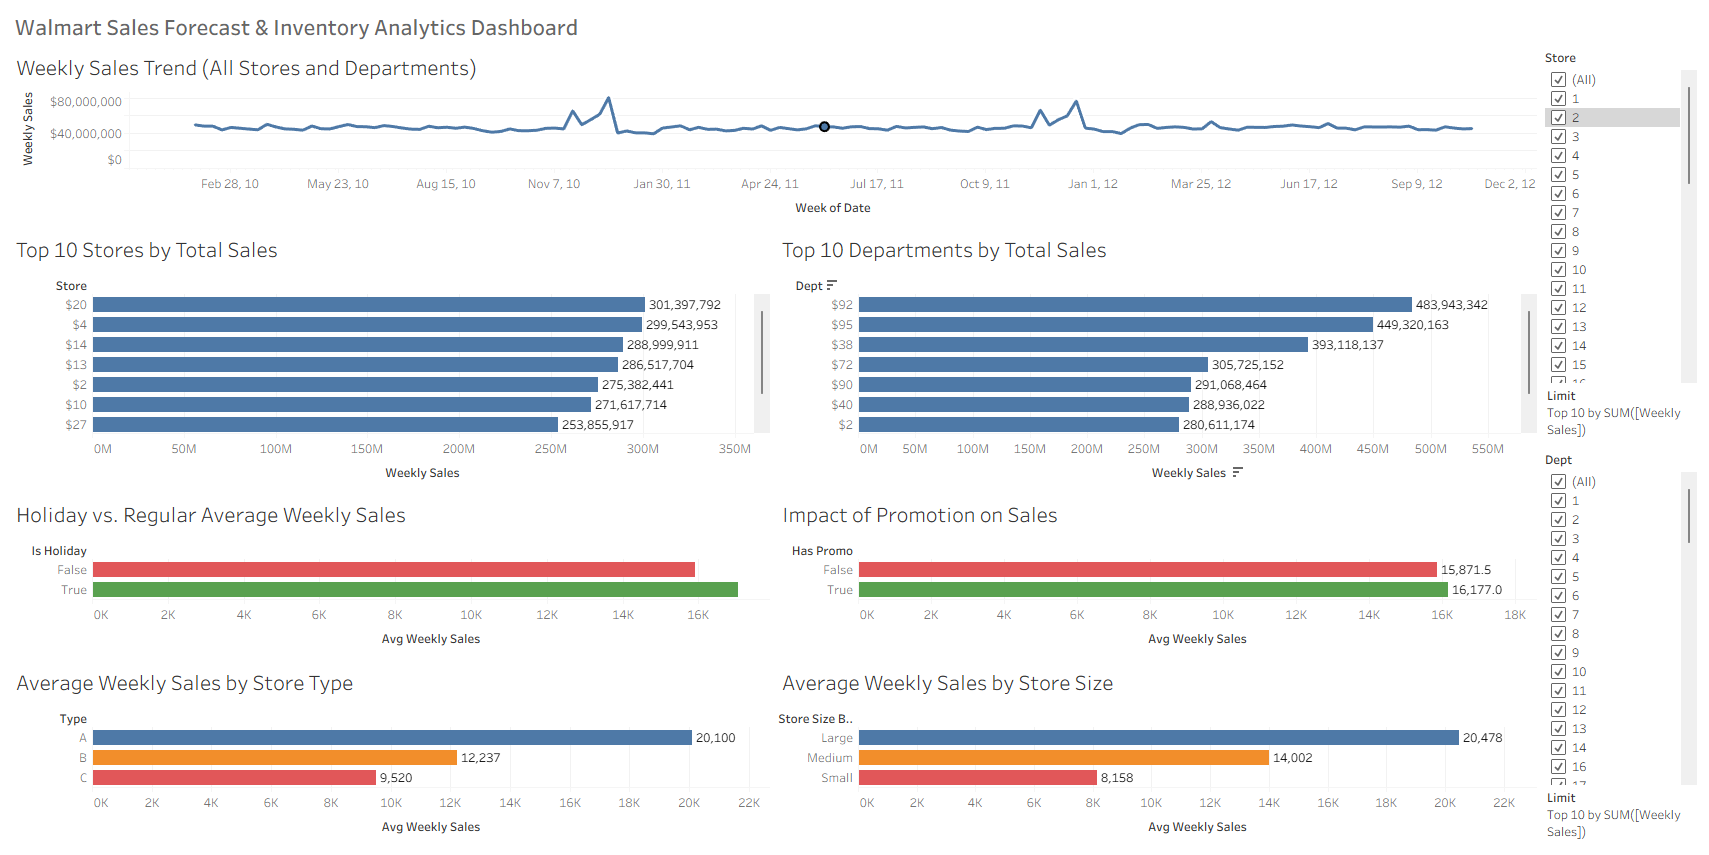

What the dashboard file says about the page in this screenshot:
{"tool":"tableau","page":{"name":"Walmart Sales Dashboard","canvas":[1000,1000],"units":"permille","ordinal":0},"visuals":[{"type":"text","box":[7.7,9.5,984.5,43.6]},{"type":"worksheet","title":"Sales Trend","mark":"Automatic","rows":["Weekly_Sales"],"cols":["Date"],"box":[7.7,53.1,829.6,212.5]},{"type":"filter","title":"Top Stores","param":"[federated.0m1fj100hibaw1137k0jd07rdmt3].[none:Store:ok]","box":[837.4,53.1,154.9,468.7]},{"type":"worksheet","title":"Top Stores","mark":"Automatic","rows":["Store"],"cols":["Weekly_Sales"],"box":[7.7,265.6,414.8,309.3]},{"type":"worksheet","title":"Top Departments","mark":"Automatic","rows":["Dept"],"cols":["Weekly_Sales"],"box":[422.5,265.6,414.8,309.3]},{"type":"filter","title":"Top Departments","param":"[federated.1u28i3s16i739c1cycz5v0e3ek7j].[none:Dept:ok]","box":[837.4,521.8,154.9,468.7]},{"type":"worksheet","title":"Holiday vs. Regular Weeks","mark":"Automatic","rows":["IsHoliday"],"cols":["Avg_Weekly_Sales"],"box":[7.7,575,414.8,196]},{"type":"worksheet","title":"Promotion Impact","mark":"Automatic","rows":["Has_Promo"],"cols":["Avg_Weekly_Sales"],"box":[422.5,575,414.8,196]},{"type":"worksheet","title":"Store Type Performance","mark":"Automatic","rows":["Type"],"cols":["Avg_Weekly_Sales"],"box":[7.7,771,414.8,219.6]},{"type":"worksheet","title":"Store Size Performance","mark":"Automatic","rows":["StoreSizeBin"],"cols":["Avg_Weekly_Sales"],"box":[422.5,771,414.8,219.6]}]}

Visuals, with their boxes on the dashboard's canvas, which has no fixed pixel size, in thousandths of its width and height (x1, y1, x2, y2). These are canvas units, not pixel positions in the 1709x855 screenshot, which may show the page scaled, cropped or inside an application window:
text: detection(8, 10, 992, 53)
"Sales Trend" worksheet: detection(8, 53, 837, 266)
"Top Stores" filter: detection(837, 53, 992, 522)
"Top Stores" worksheet: detection(8, 266, 422, 575)
"Top Departments" worksheet: detection(422, 266, 837, 575)
"Top Departments" filter: detection(837, 522, 992, 990)
"Holiday vs. Regular Weeks" worksheet: detection(8, 575, 422, 771)
"Promotion Impact" worksheet: detection(422, 575, 837, 771)
"Store Type Performance" worksheet: detection(8, 771, 422, 991)
"Store Size Performance" worksheet: detection(422, 771, 837, 991)
